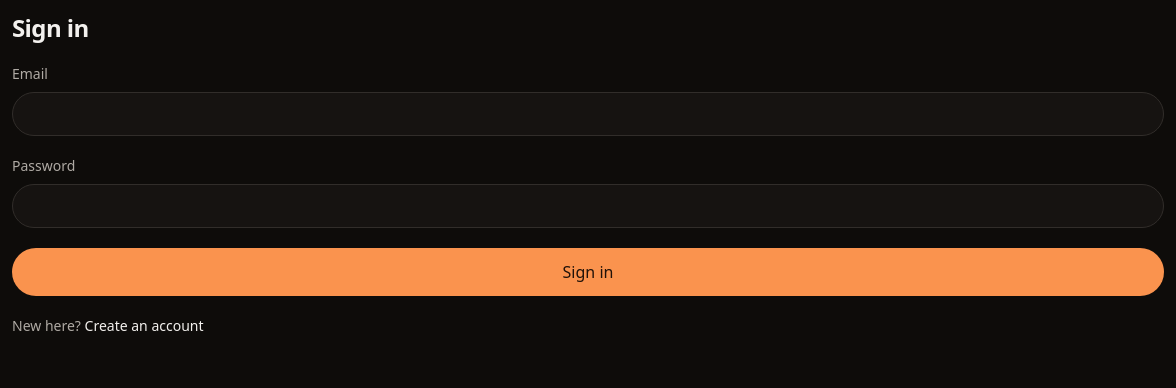
AuthForm › explains EMAIL_PASSWORD_SIGN_UP_DISABLED and stays on the page
The image size is (1176, 388).
Type "me@example.com" into the field labelled "Email" at (588, 114), box [12,92,1164,136]
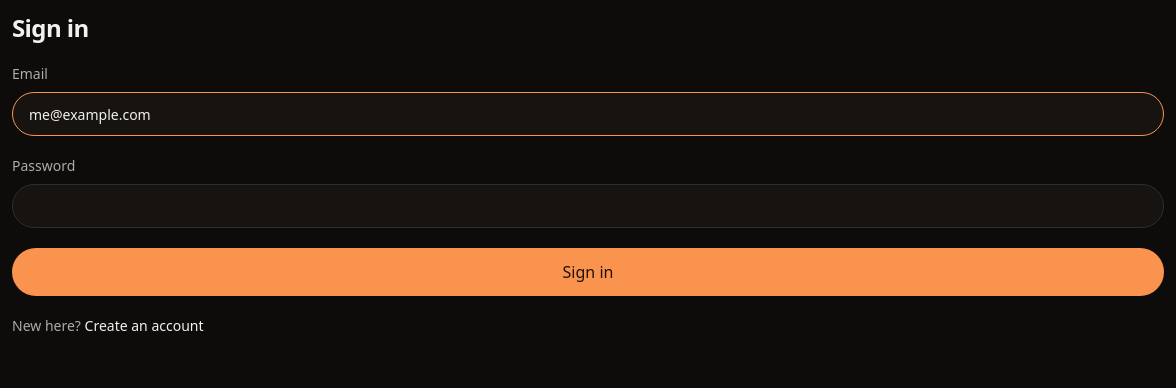
Type "longenough1" into the password field labelled "Password" at (588, 206), box [12,184,1164,228]
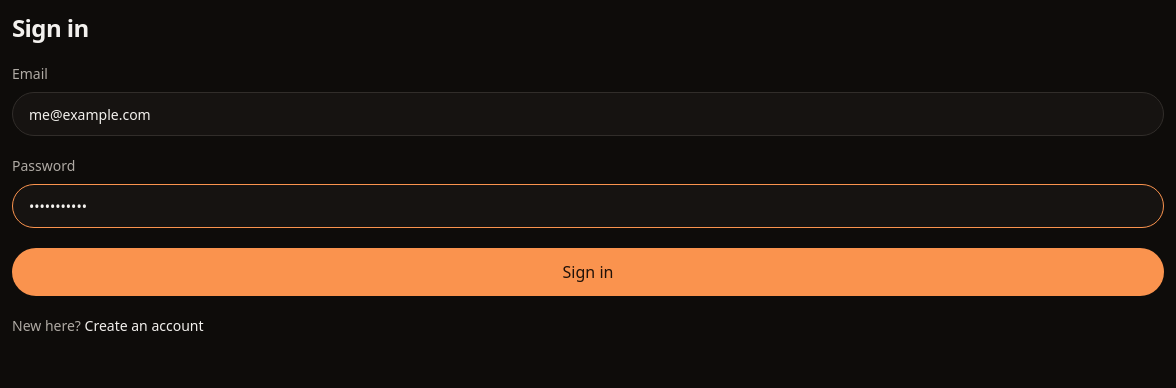
Click the button "Sign in" at (588, 272), box [12,248,1164,296]
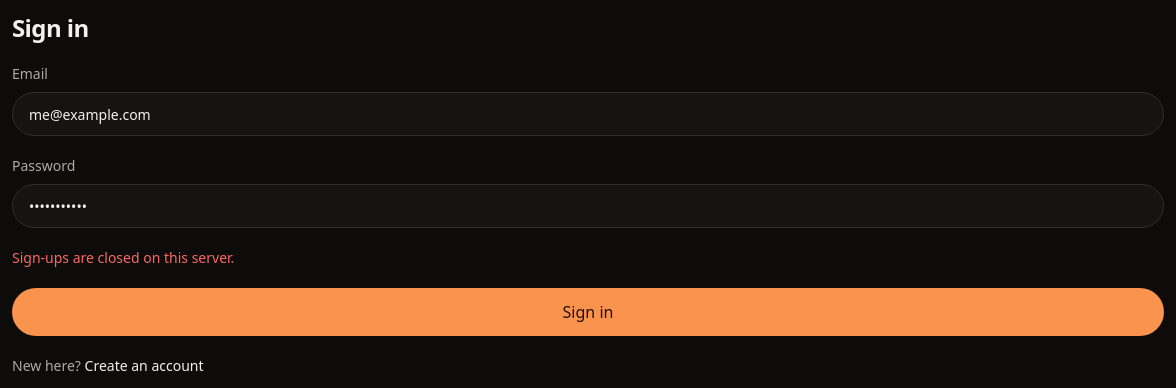
Expected: the message reads "Sign-ups are closed on this server.", [12,248,234,267]
